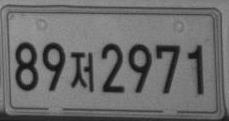1: (186, 44, 212, 94)
2: (100, 43, 125, 93)
7: (155, 44, 180, 93)
8: (13, 41, 39, 91)
9: (127, 43, 153, 93), (42, 41, 66, 91)
저: (70, 51, 94, 92)
